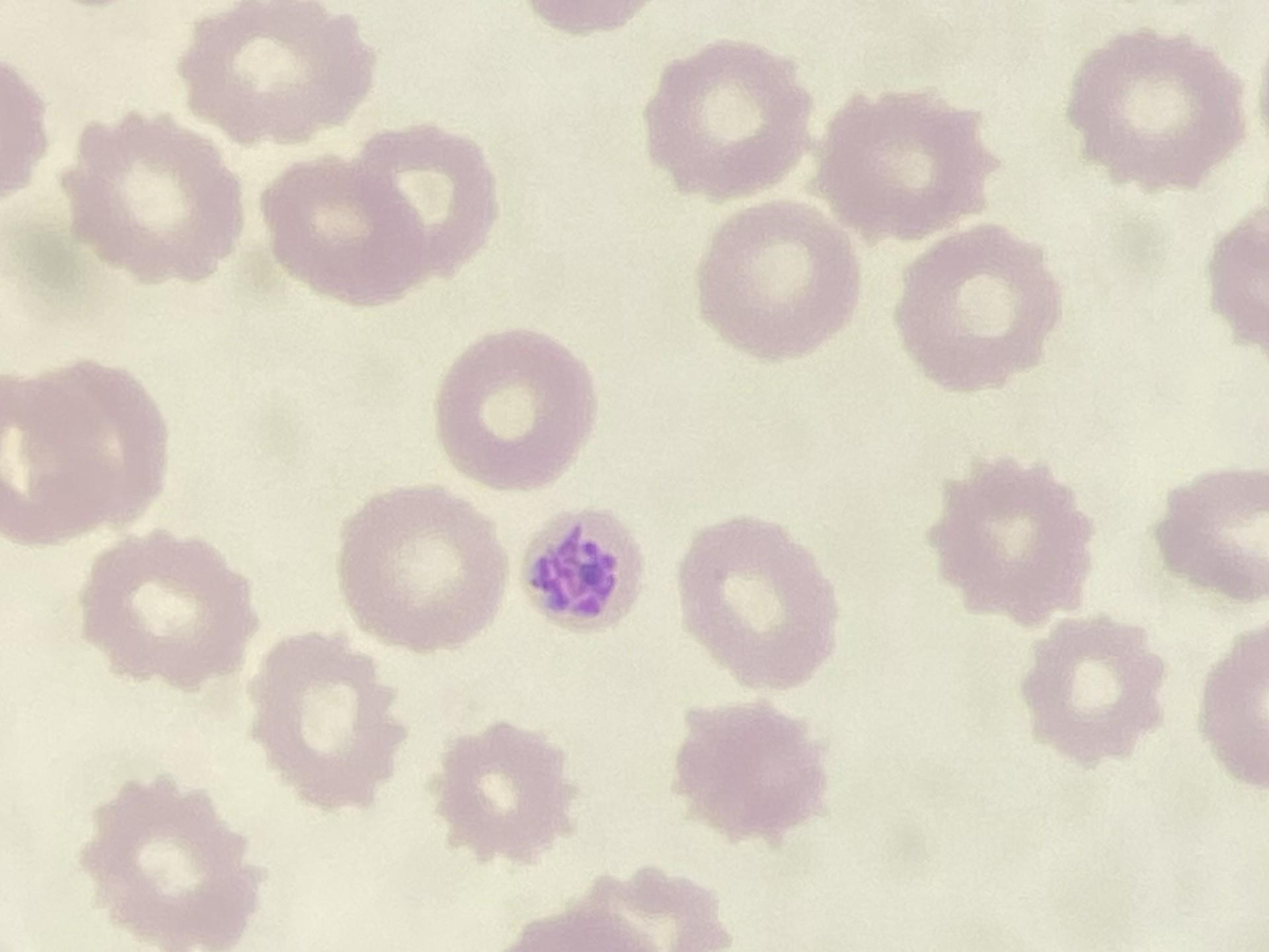Infected: (522, 507, 642, 634)
Uninfected: (267, 125, 497, 308), (63, 109, 247, 284), (80, 775, 263, 949), (3, 358, 167, 540), (894, 219, 1063, 392), (79, 530, 258, 690), (249, 631, 408, 811), (1066, 29, 1242, 190), (929, 455, 1096, 624), (338, 487, 507, 653), (676, 516, 837, 688), (181, 1, 373, 145), (816, 88, 999, 238), (697, 200, 863, 360), (645, 40, 814, 197), (436, 329, 597, 491), (672, 700, 829, 846), (1020, 617, 1167, 766), (432, 719, 576, 864)
